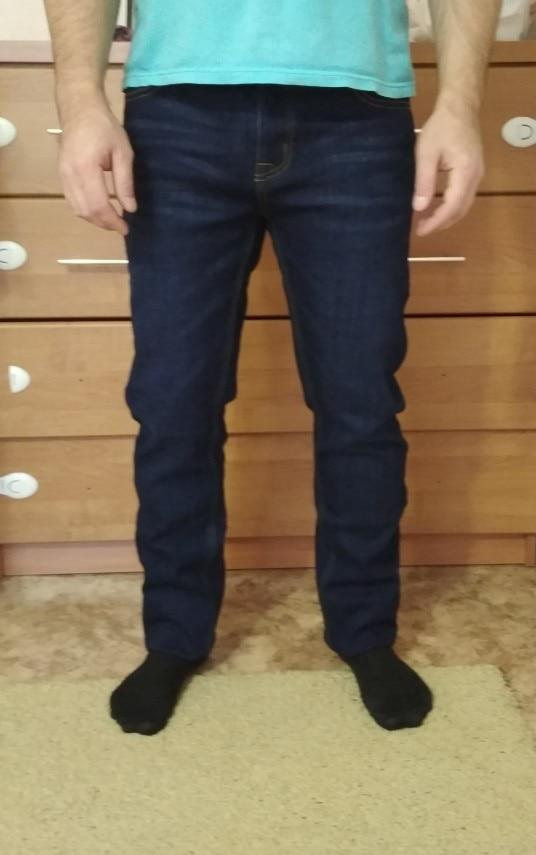jeans: (101, 73, 410, 647)
